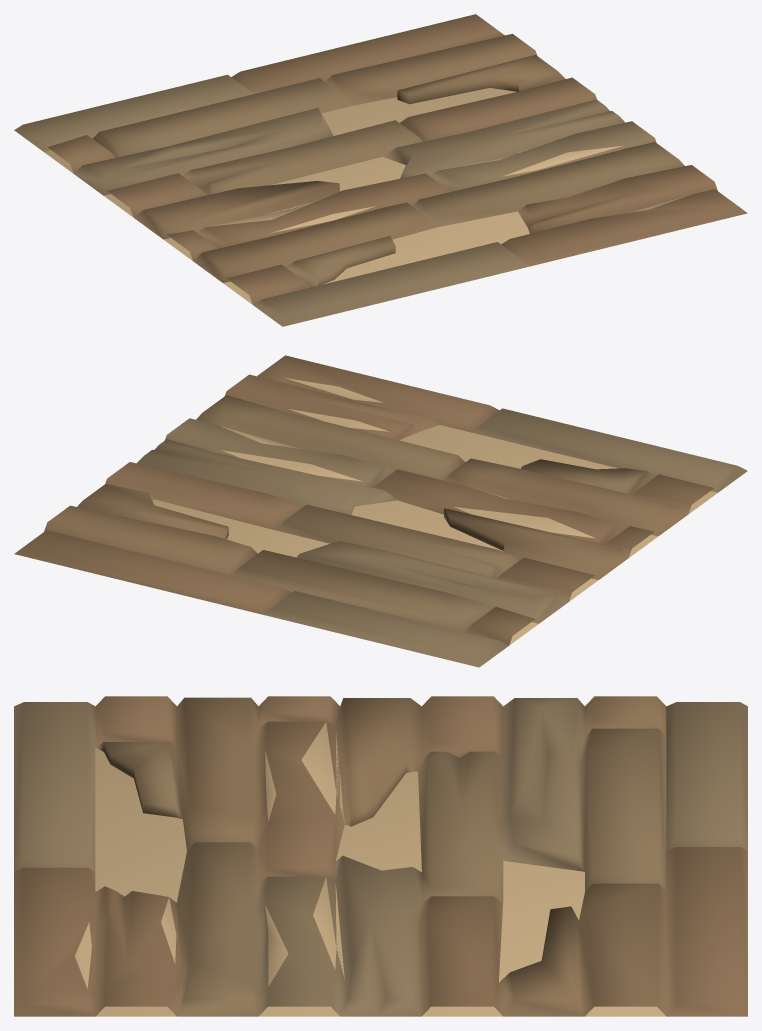
File: rpgpp_av_floor_01b_3x3.gltf
3 views of the same model, one above another, from view 1: azimuth 30°, elevation 25°; view 2: azimuth 150°, elevation 25°; view 3: azimuth 270°, elevation 25° (orthographic). The views are drawn at different scales.
Parts seen in each view (by area): view 1: rpgpp_av_floor_01b_3x3; view 2: rpgpp_av_floor_01b_3x3; view 3: rpgpp_av_floor_01b_3x3.
Part boxes in pixels (box(x1,y1,x2,y2)): rpgpp_av_floor_01b_3x3: box(14, 14, 747, 326); rpgpp_av_floor_01b_3x3: box(14, 355, 747, 667); rpgpp_av_floor_01b_3x3: box(14, 696, 747, 1016).
Bounding box in the file's own units: 0.03 × 0.000584 × 0.03.
Materials: 1 (1 with a texture image).
